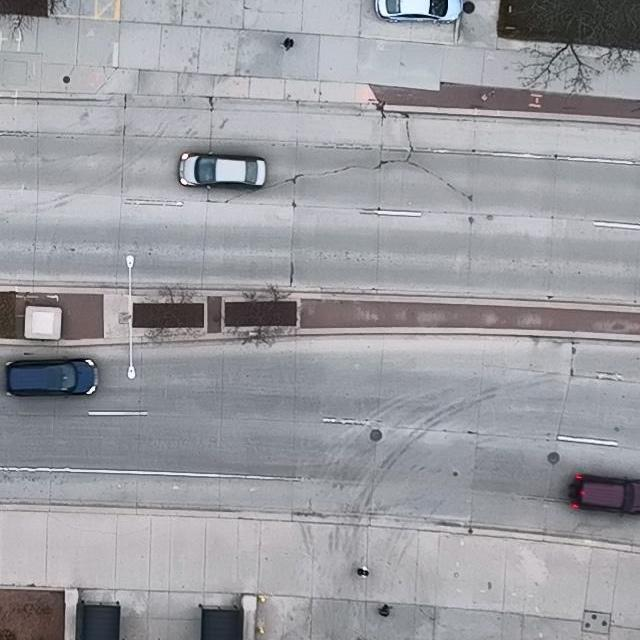car: (4, 356, 98, 398), (178, 152, 268, 190), (571, 473, 640, 518), (375, 0, 464, 22)
